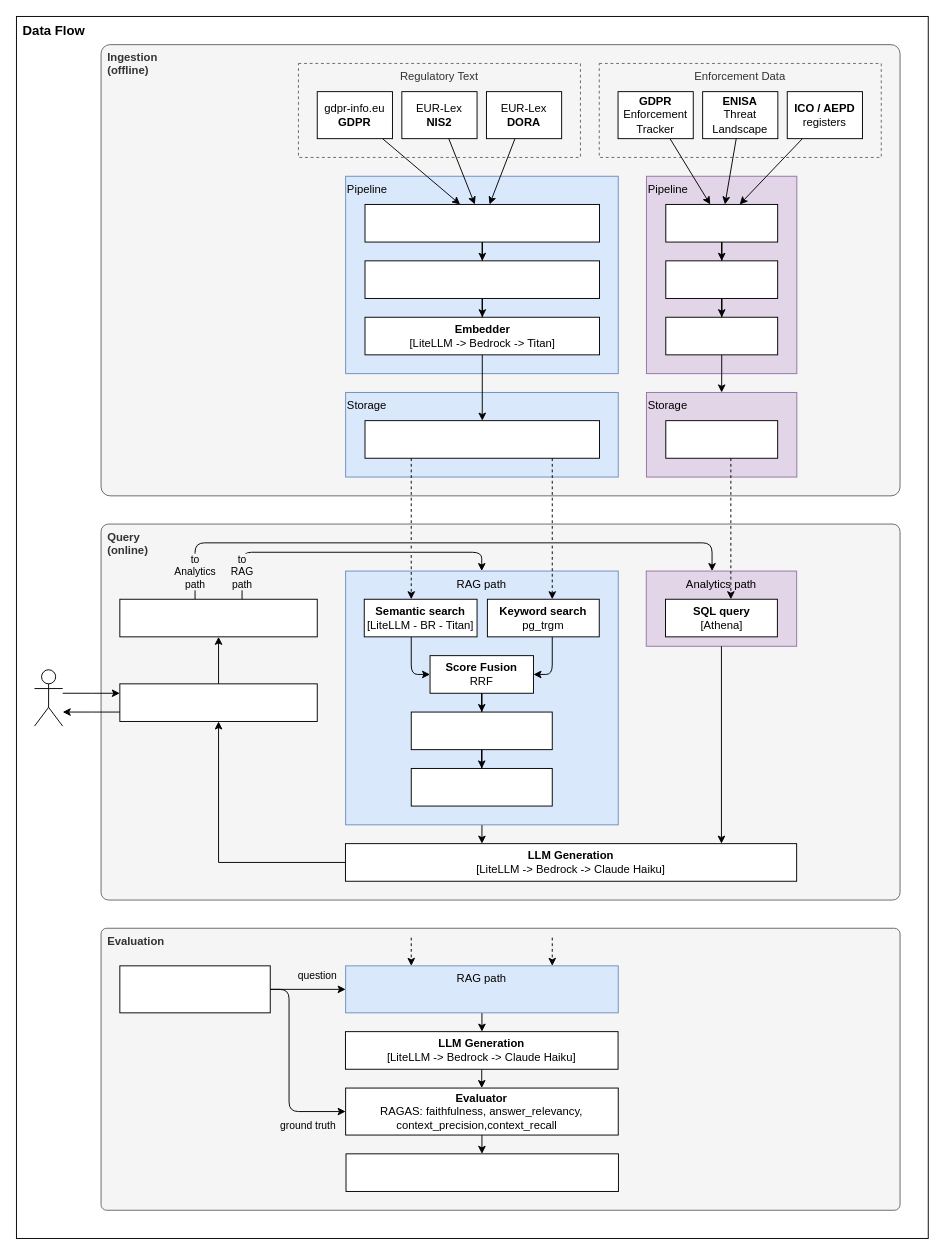
The diagram is 945 pixels wide and 1255 high, and some of its shapes have lost their labels. The shapes that lost their labels are listed below. From the top down, each one's centre as x and y in pixels, then its label:
[482,223]: Loader [httpx, BeautifulSoup]
[721,223]: Extract CSV files
[482,279]: Chunker [tiktoken - 512 tokens / 50 overlap]
[721,279]: Transform CSV to Parquet
[721,335]: Load Parquet files to S3
[482,439]: Vector DB [Chroma (local) / PGVector (cloud)]
[721,439]: S3 analytics bucket
[218,617]: Router Agent LangGraph
[48,697]: User
[218,702]: API /chat FastAPI
[481,730]: Re-ranking MS Marco Cross-encoder
[481,787]: Context builder + citations
[194,989]: Golden Dataset 30 Q&A pairs GDPR / NIS2 / DORA
[481,1172]: Evaluation Report
